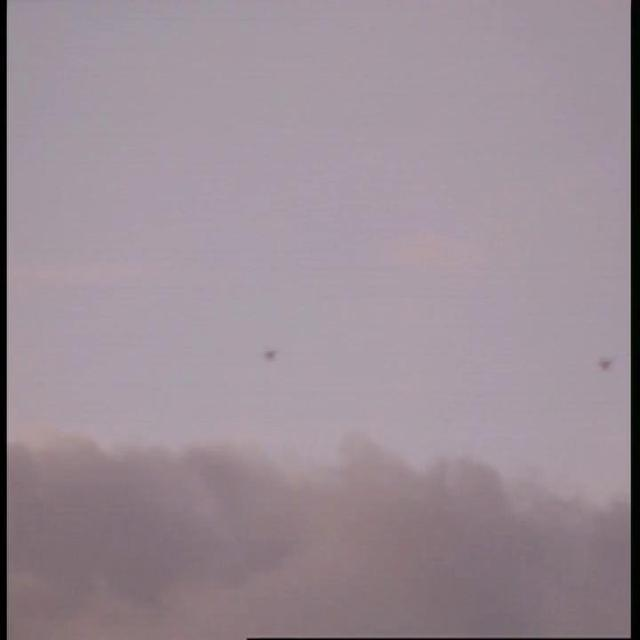drone: (592, 351, 620, 376), (263, 346, 285, 368)
